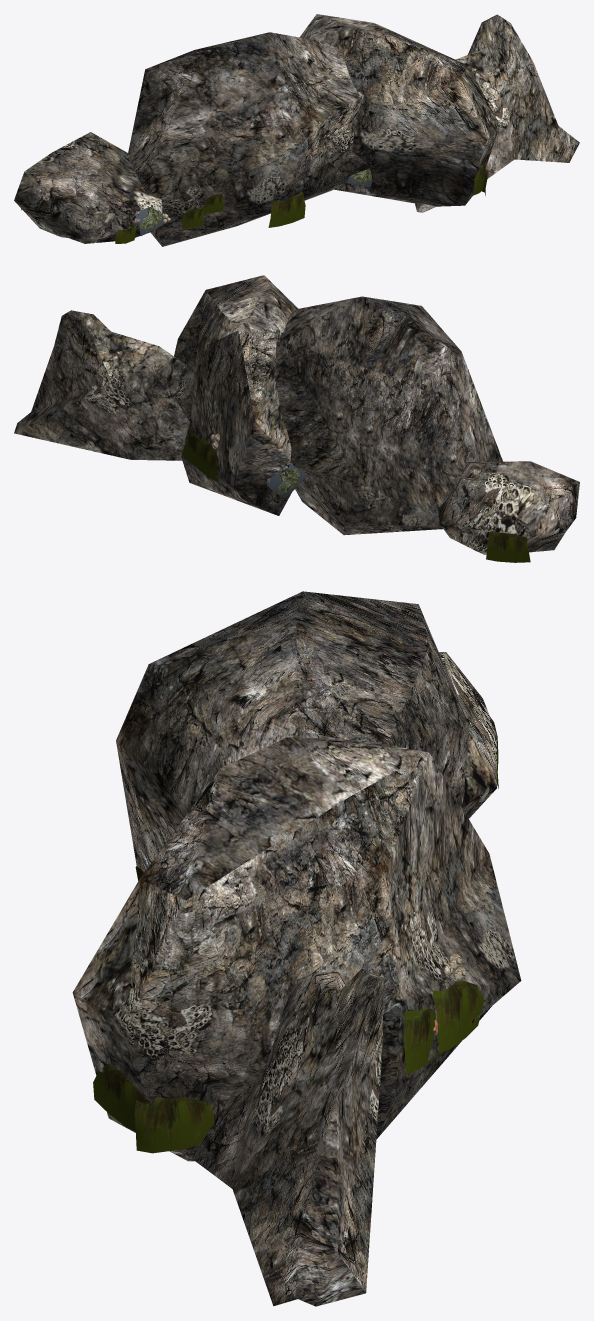
Rendered from pir_m_prp_dvj_rockGroup_a.fbx.
3 views of the same model, one above another, from view 1: azimuth 30°, elevation 25°; view 2: azimuth 150°, elevation 25°; view 3: azimuth 270°, elevation 25° (orthographic). The views are drawn at different scales.
Parts seen in each view (by area): view 1: pasted__rock_2, pasted__rock_3, pasted__rock_1, pasted__rock_4, seaweedSlime4, seaweedSlime, seaweedClump2, seaweedSlime2, seaweedSlime3, seaweedClump1; view 2: pasted__rock_2, pasted__rock_3, pasted__rock_4, pasted__rock_1, seaweedSlime9, seaweedClump, seaweedSlime8, seaweedSlime7; view 3: pasted__rock_3, pasted__rock_2, pasted__rock_4, pasted__rock_1, seaweedSlime6, seaweedSlime8, seaweedSlime5, seaweedSlime7.
Boxes of the visible parts, x1,y1,x2,y2 form: pasted__rock_2: [128, 32, 370, 246]; pasted__rock_3: [299, 14, 500, 206]; pasted__rock_1: [14, 132, 162, 243]; pasted__rock_4: [415, 14, 579, 212]; seaweedSlime4: [268, 192, 305, 227]; seaweedSlime: [84, 211, 115, 241]; seaweedClump2: [134, 207, 163, 235]; seaweedSlime2: [182, 208, 203, 229]; seaweedSlime3: [201, 193, 223, 214]; seaweedClump1: [347, 169, 372, 186]; pasted__rock_2: [274, 296, 502, 535]; pasted__rock_3: [174, 275, 298, 515]; pasted__rock_4: [14, 310, 189, 460]; pasted__rock_1: [438, 461, 579, 554]; seaweedSlime9: [486, 531, 530, 562]; seaweedClump: [266, 462, 306, 498]; seaweedSlime8: [193, 435, 218, 482]; seaweedSlime7: [182, 426, 200, 465]; pasted__rock_3: [72, 737, 521, 1161]; pasted__rock_2: [116, 591, 469, 872]; pasted__rock_4: [185, 968, 383, 1306]; pasted__rock_1: [439, 652, 496, 818]; seaweedSlime6: [134, 1097, 214, 1153]; seaweedSlime8: [432, 980, 484, 1053]; seaweedSlime5: [93, 1064, 156, 1131]; seaweedSlime7: [403, 1007, 438, 1075].
Bounding box in the file's own units: 10110 × 3586 × 3667.
Materials: 3 (3 with a texture image).
